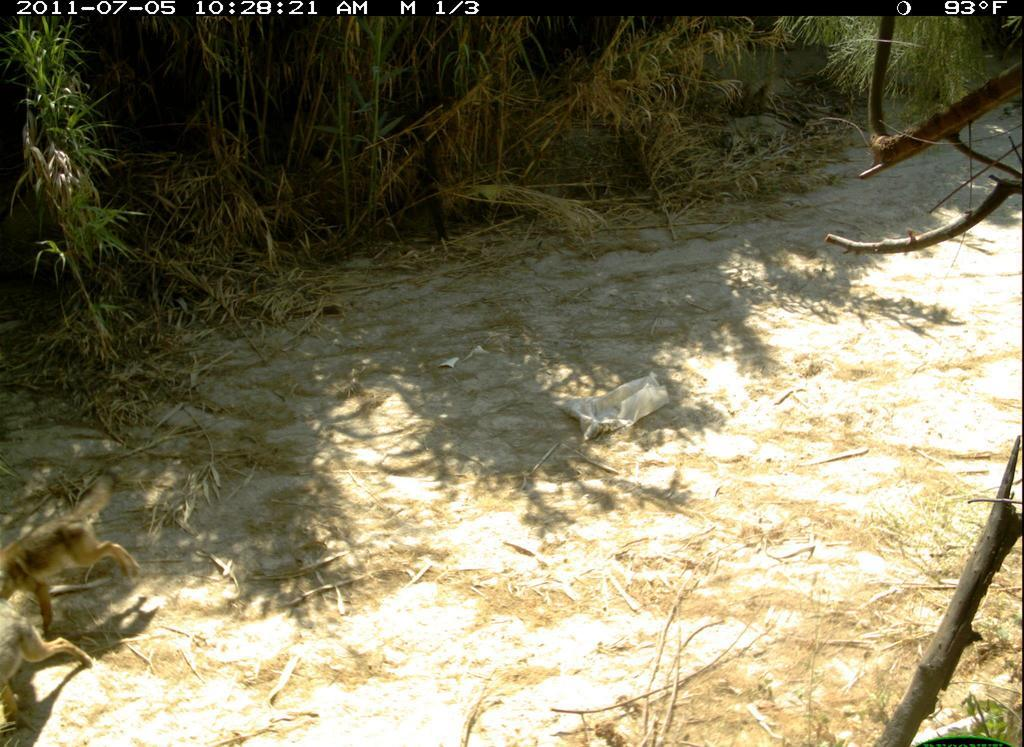coyote: (1, 470, 154, 734), (4, 587, 100, 738)
